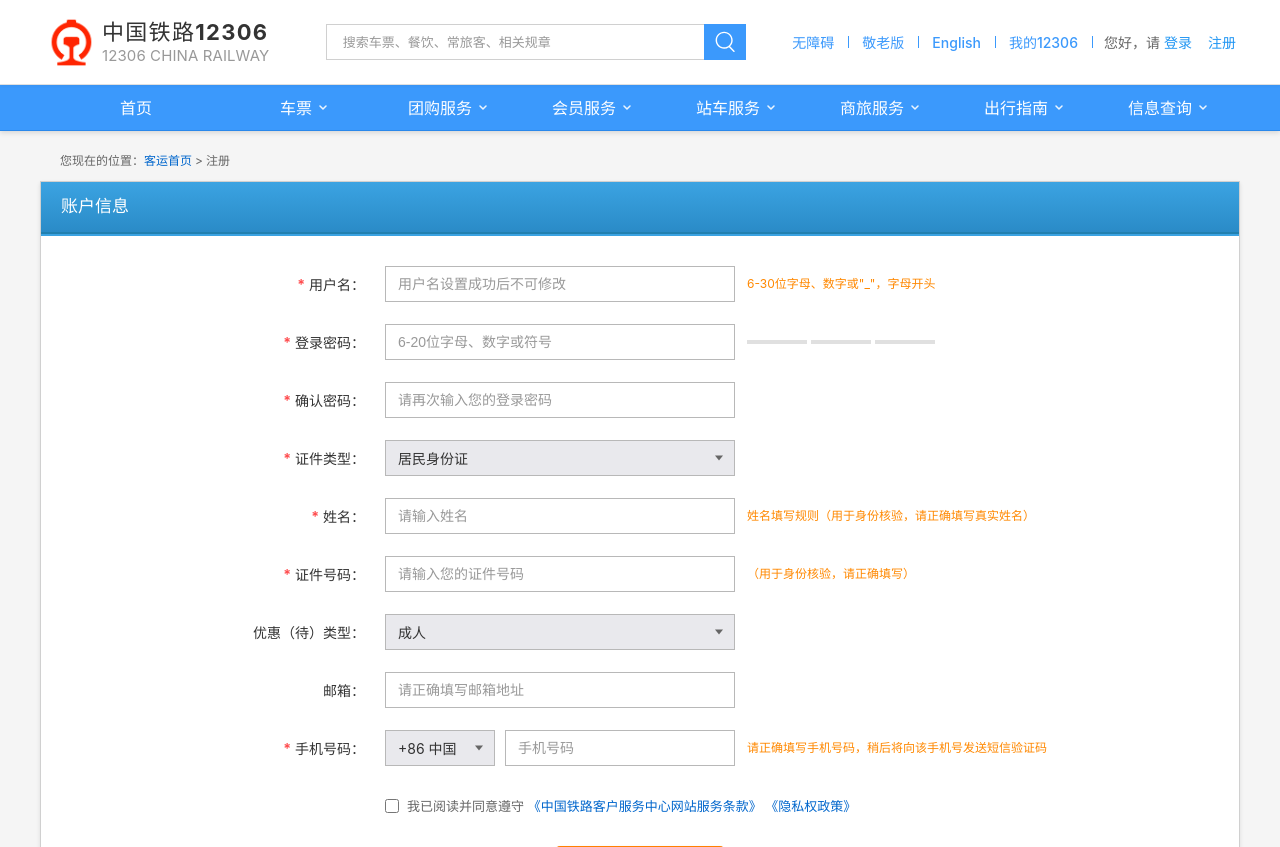
跨组件交互：注册表单验证流程 › 用户名字段验证 (需求 3.2.1) › 应该在用户名长度小于6位时显示错误提示
The width and height of the screenshot is (1280, 847).
Expected: the text "账户信息" is shown, x1=41 y1=182 x2=1239 y2=234
//  测试用户名过短
Type "abc" into the field with placeholder "用户名设置成功后不可修改" at (560, 284), box x1=385 y1=266 x2=735 y2=302
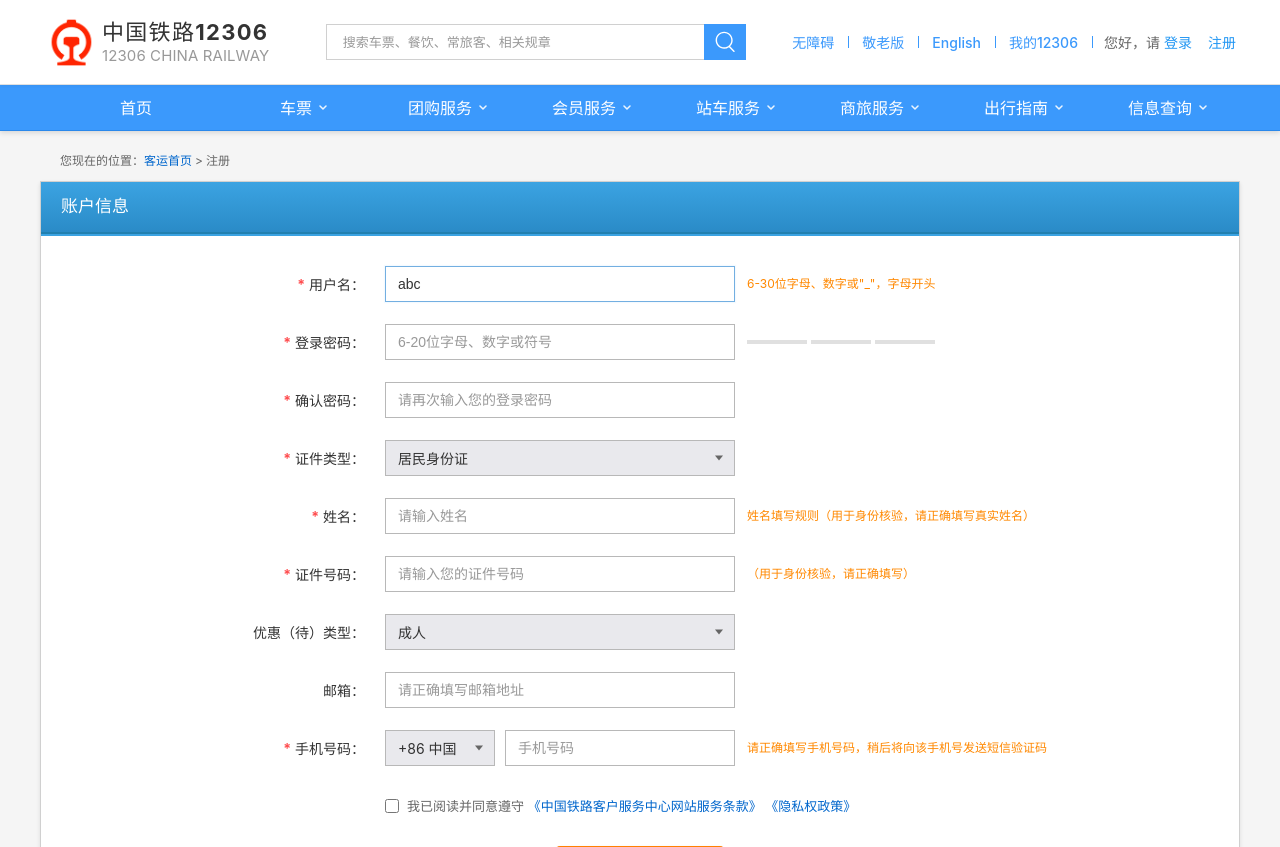
Press Tab
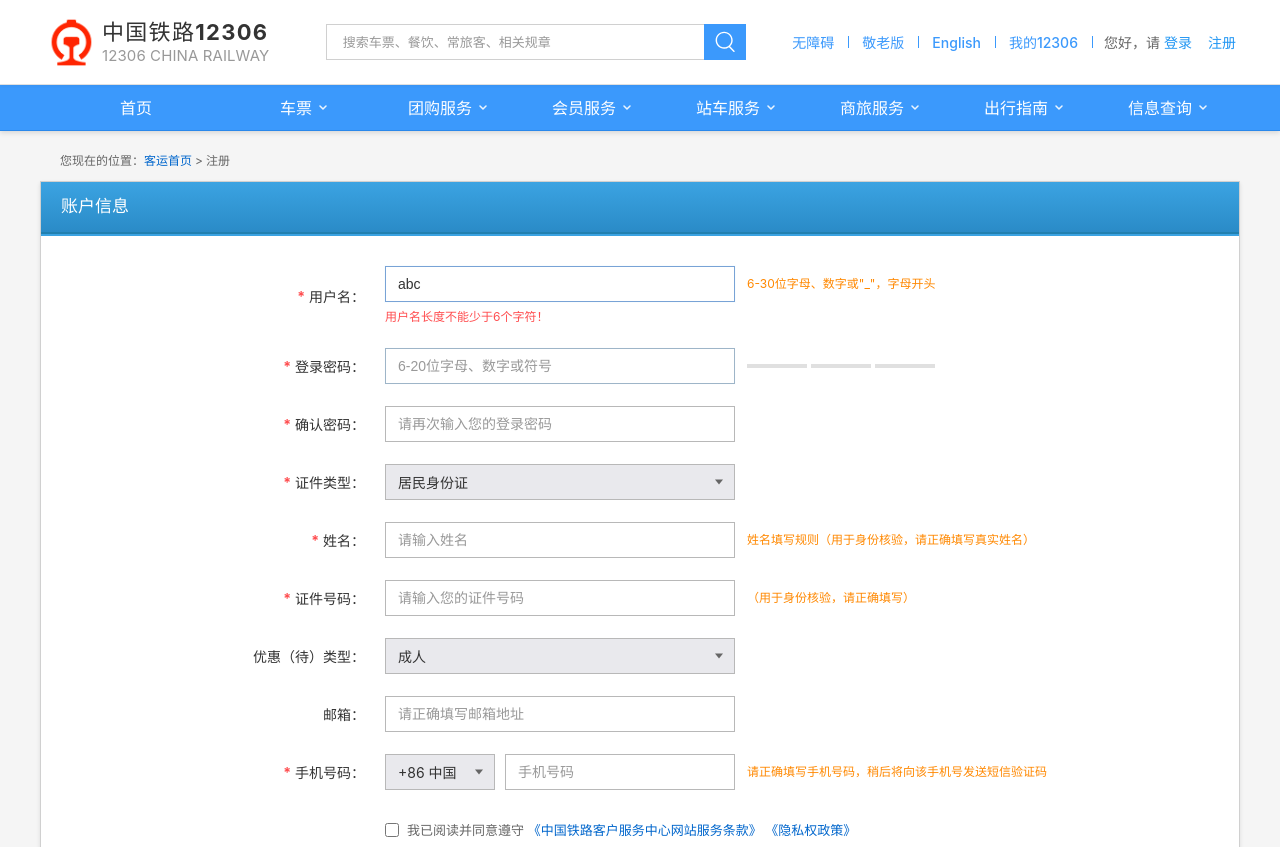
Now the text "用户名长度不能少于6个字符！" is shown, box x1=385 y1=308 x2=548 y2=324
